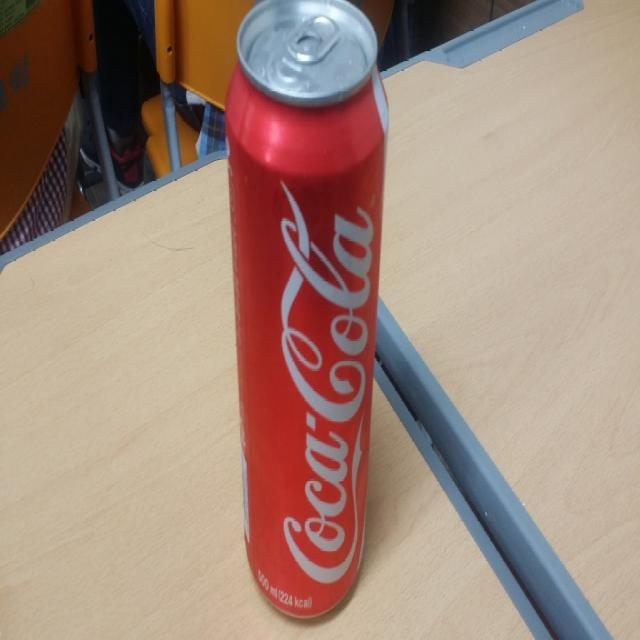coca-cola: (224, 0, 388, 638)
